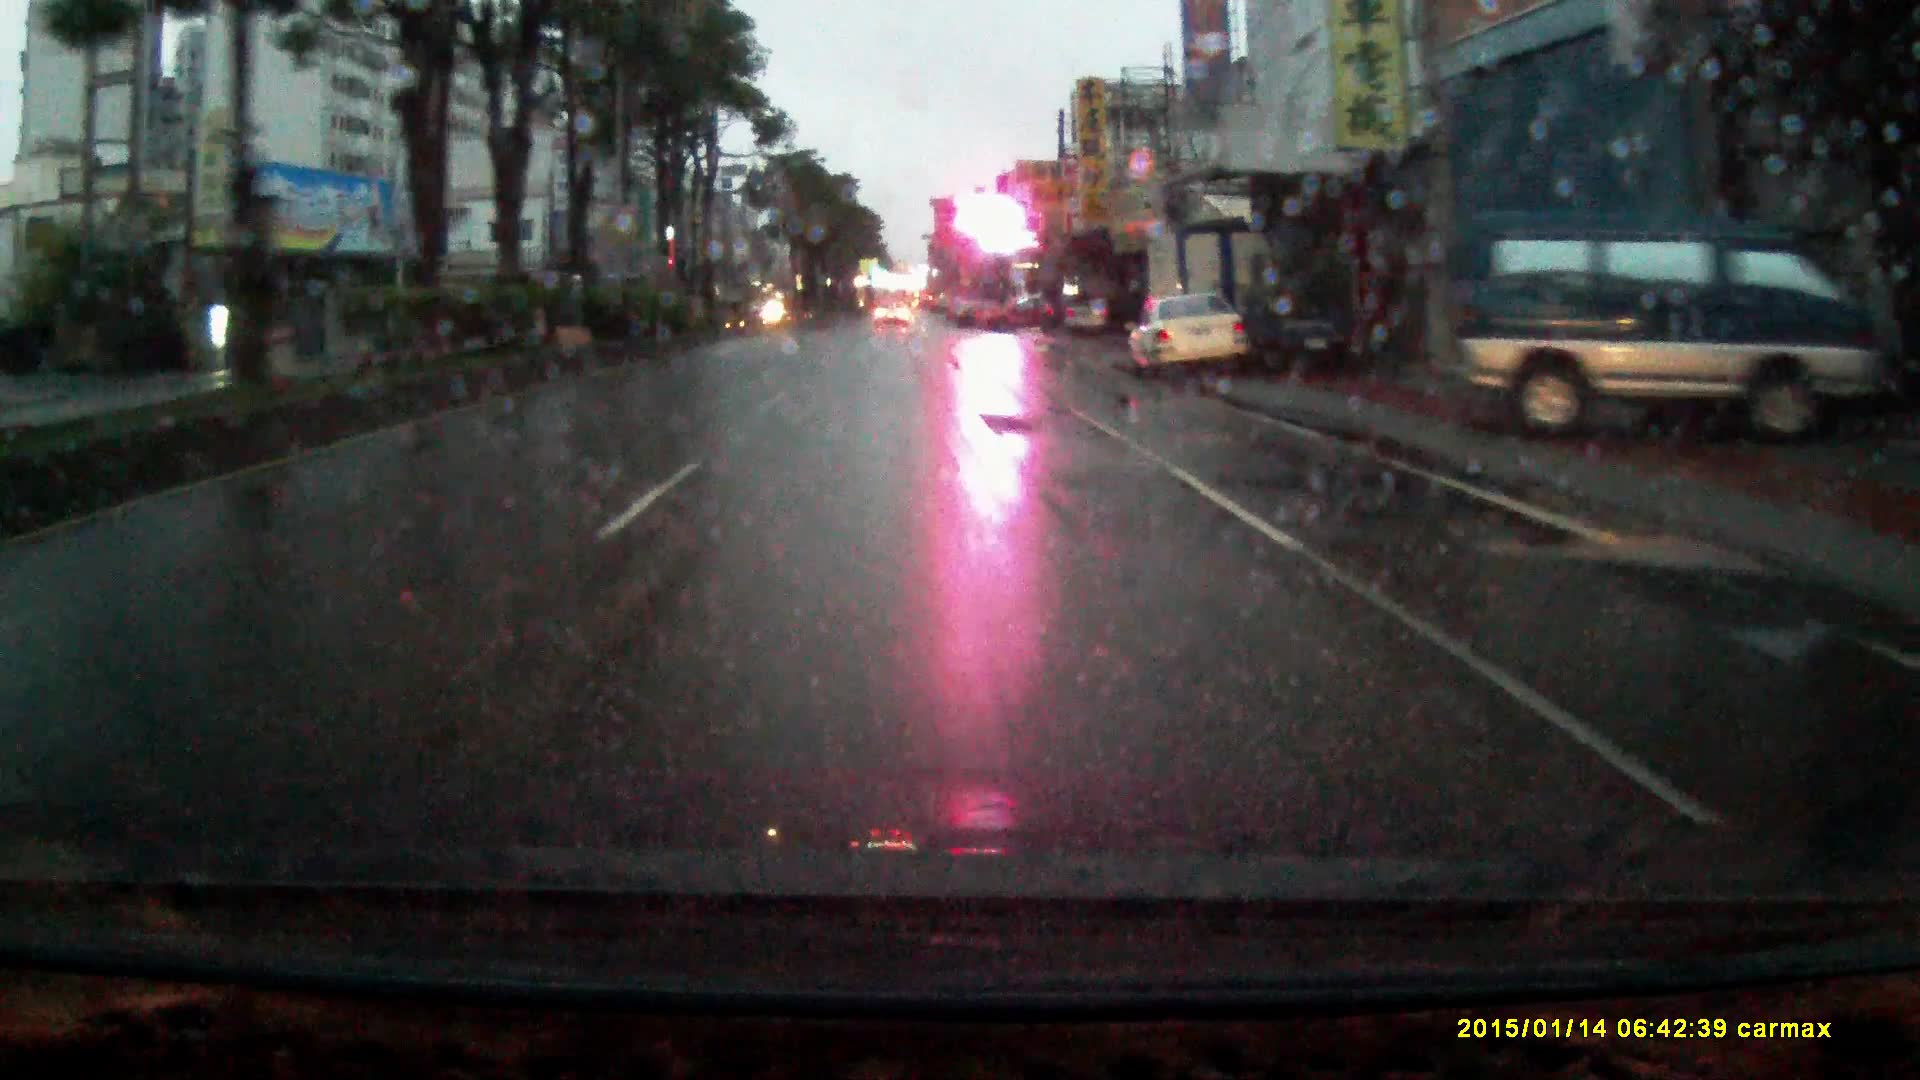vehicle: (1461, 204, 1841, 447), (1135, 222, 1287, 380), (1126, 286, 1258, 380), (978, 287, 1056, 330), (1055, 290, 1112, 335), (876, 298, 910, 328)
